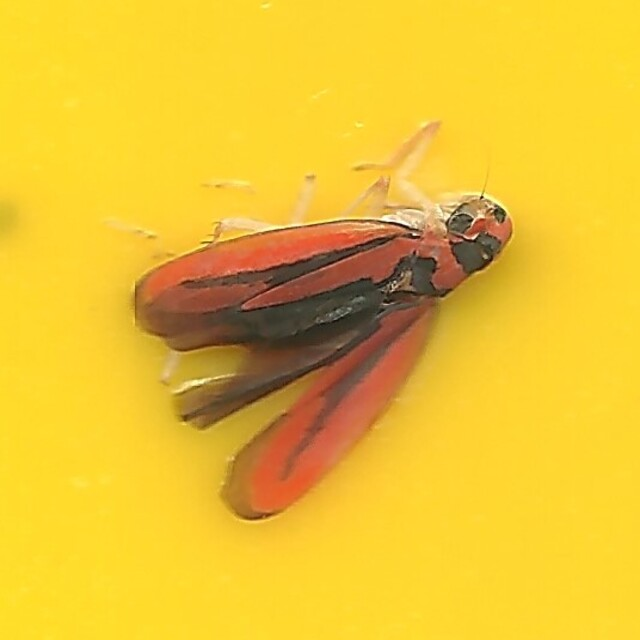Hemiptera: (119, 116, 521, 524)
